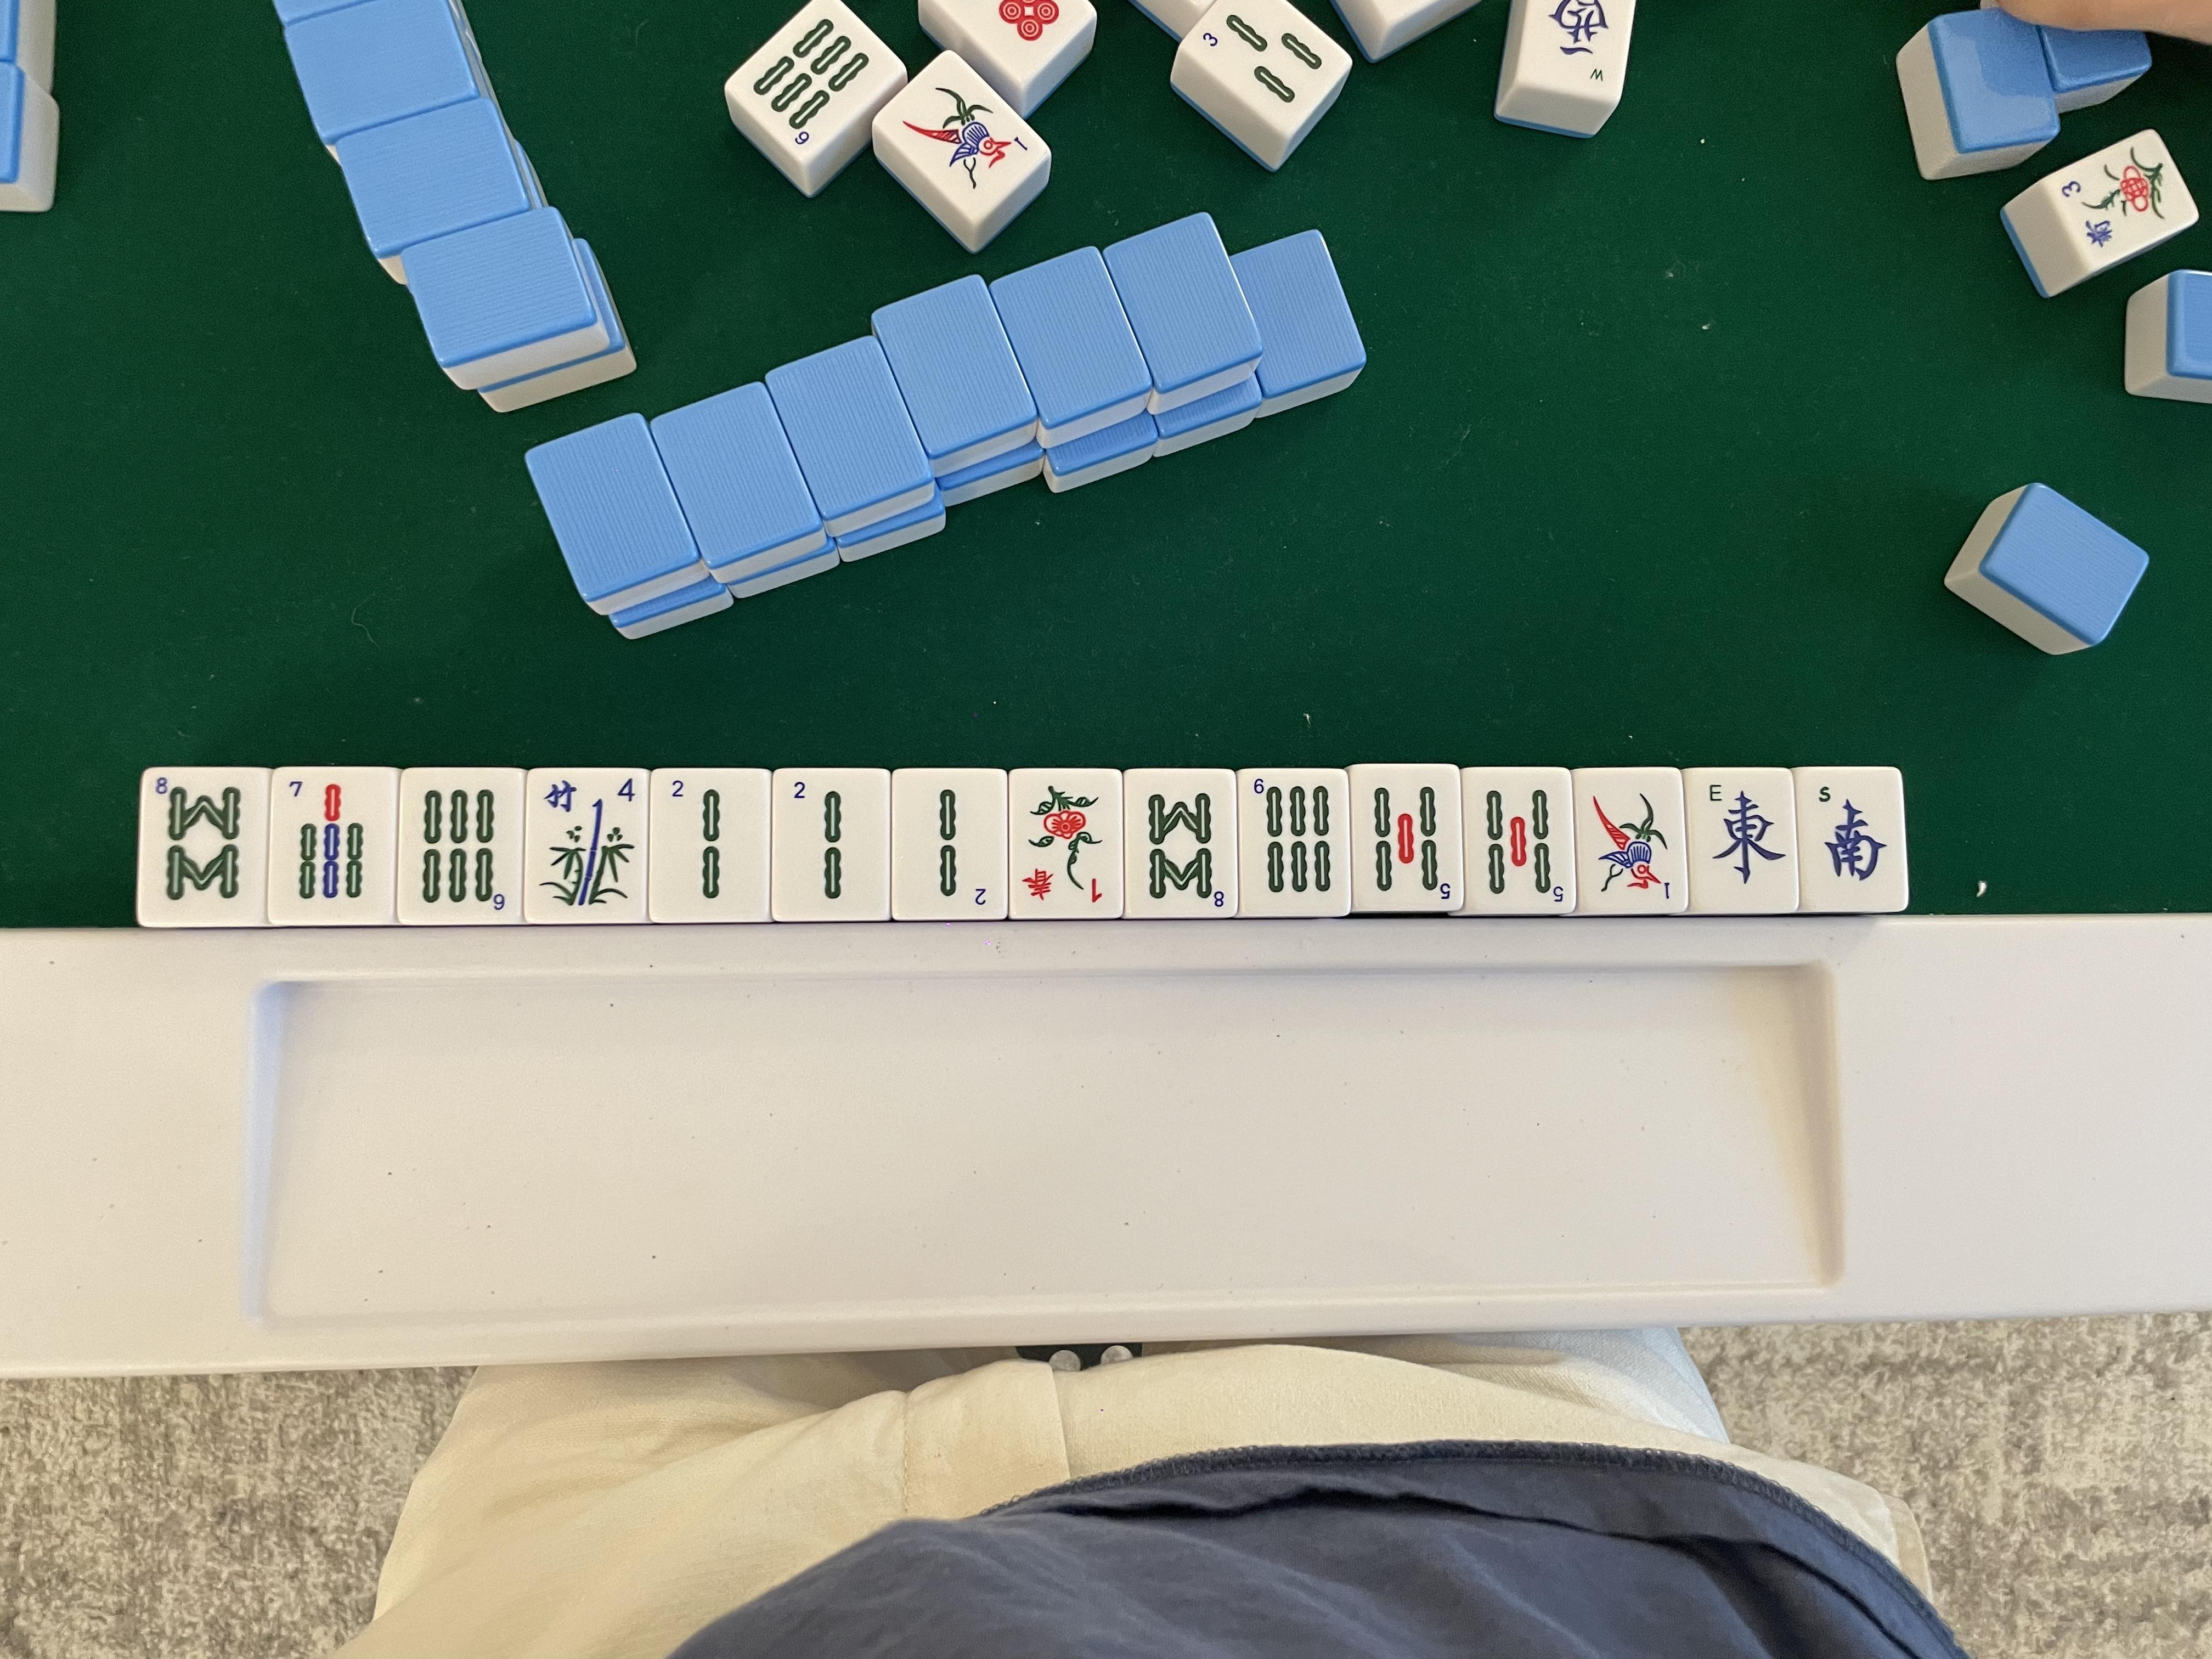bamboo-eight: (150, 774, 249, 908), (1136, 777, 1226, 910)
bamboo-five: (1472, 772, 1568, 906), (1360, 774, 1456, 899)
bamboo-one: (1588, 774, 1676, 908)
bamboo-seven: (279, 770, 383, 915)
bamboo-six: (408, 774, 517, 915), (1249, 775, 1334, 906)
bamboo-two: (664, 774, 758, 918), (779, 775, 876, 910), (907, 777, 989, 910)
flower-blue_four: (538, 774, 643, 917)
flower-red_one: (1019, 777, 1111, 910)
honor-east_wind: (1698, 777, 1787, 908)
honor-south_wind: (1806, 779, 1895, 906)
